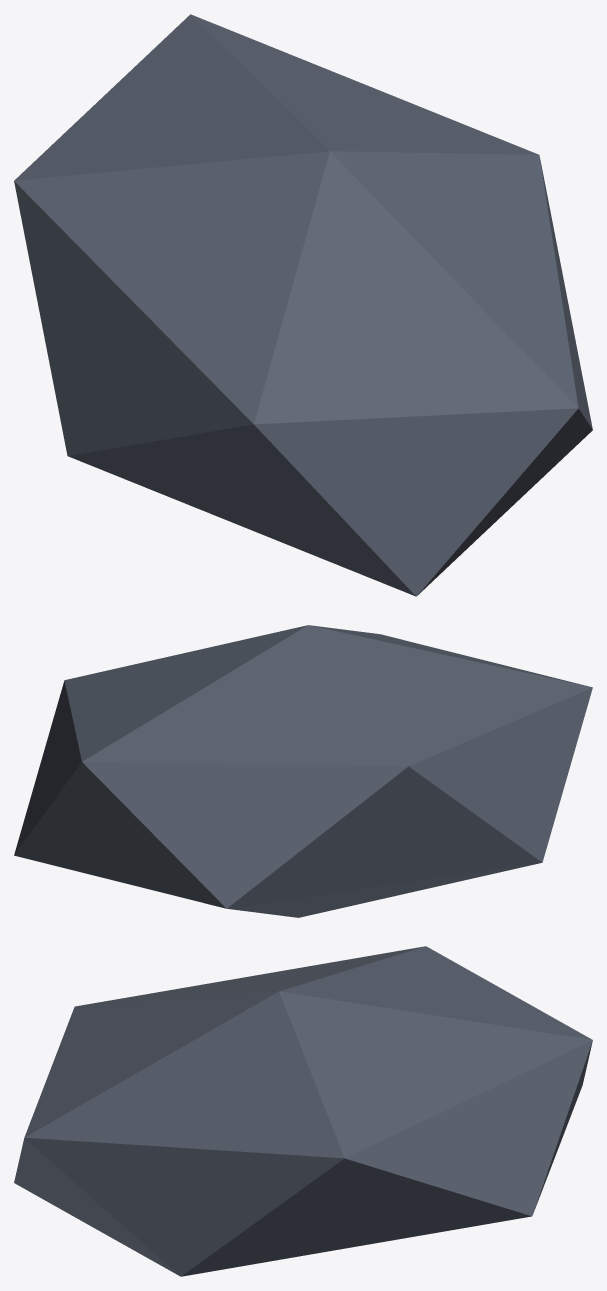
File: EXTG_MainEastStone_04.glb
3 views of the same model, one above another, from view 1: azimuth 30°, elevation 25°; view 2: azimuth 150°, elevation 25°; view 3: azimuth 270°, elevation 25° (orthographic). The views are drawn at different scales.
Parts seen in each view (by area): view 1: EXTG_MainEastStone_04; view 2: EXTG_MainEastStone_04; view 3: EXTG_MainEastStone_04.
Boxes of the visible parts, box(x1,y1,x2,y2) form: EXTG_MainEastStone_04: box(14, 14, 592, 596); EXTG_MainEastStone_04: box(14, 625, 592, 917); EXTG_MainEastStone_04: box(14, 946, 592, 1276).
Bounding box in the file's own units: 0.9266 × 0.5501 × 1.16.
